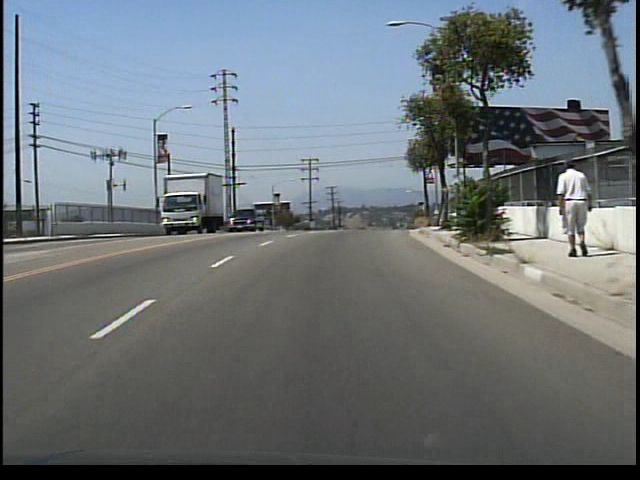person: (552, 155, 592, 260)
